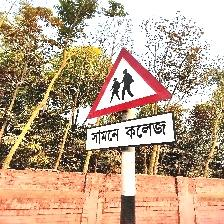College-in-front: (93, 39, 190, 163)
